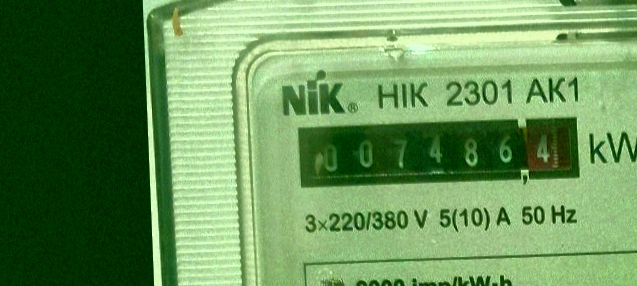0: (318, 139, 340, 174), (355, 135, 374, 169)
4: (424, 130, 443, 165), (532, 130, 550, 165)
6: (495, 132, 515, 165)
7: (387, 135, 411, 169)
8: (461, 134, 480, 170)
screen: (287, 104, 588, 200)
